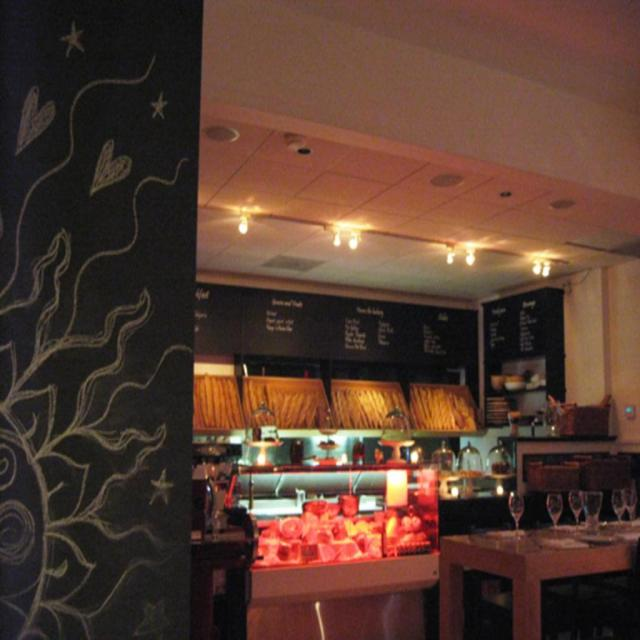table: (439, 512, 624, 634)
